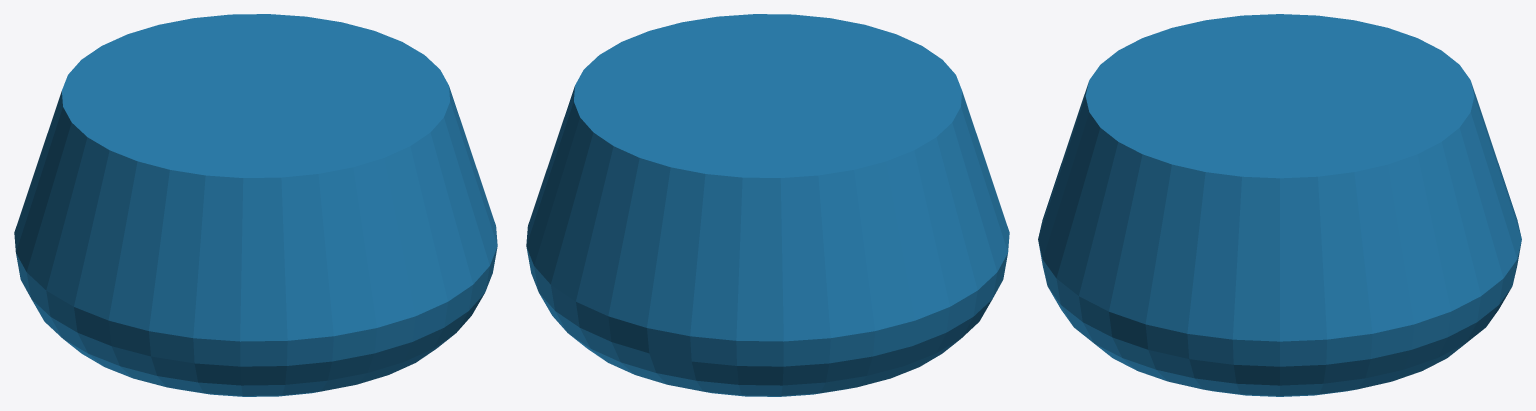
Rendered from SM_锥形瓶液体.FBX.
3 views of the same model, side by side, from view 1: azimuth 30°, elevation 25°; view 2: azimuth 150°, elevation 25°; view 3: azimuth 270°, elevation 25° (orthographic).
Parts seen in each view (by area): view 1: SM_锥形瓶液体; view 2: SM_锥形瓶液体; view 3: SM_锥形瓶液体.
Boxes of the visible parts, x1,y1,x2,y2 form: SM_锥形瓶液体: (14,14,497,396); SM_锥形瓶液体: (526,14,1009,396); SM_锥形瓶液体: (1038,14,1521,396).
Bounding box in the file's own units: 0.0401 × 0.0401 × 0.0212.
